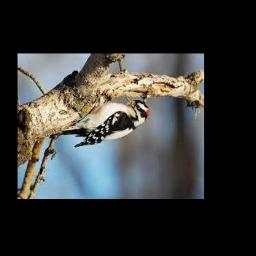Woodpecker: (50, 96, 149, 147)
